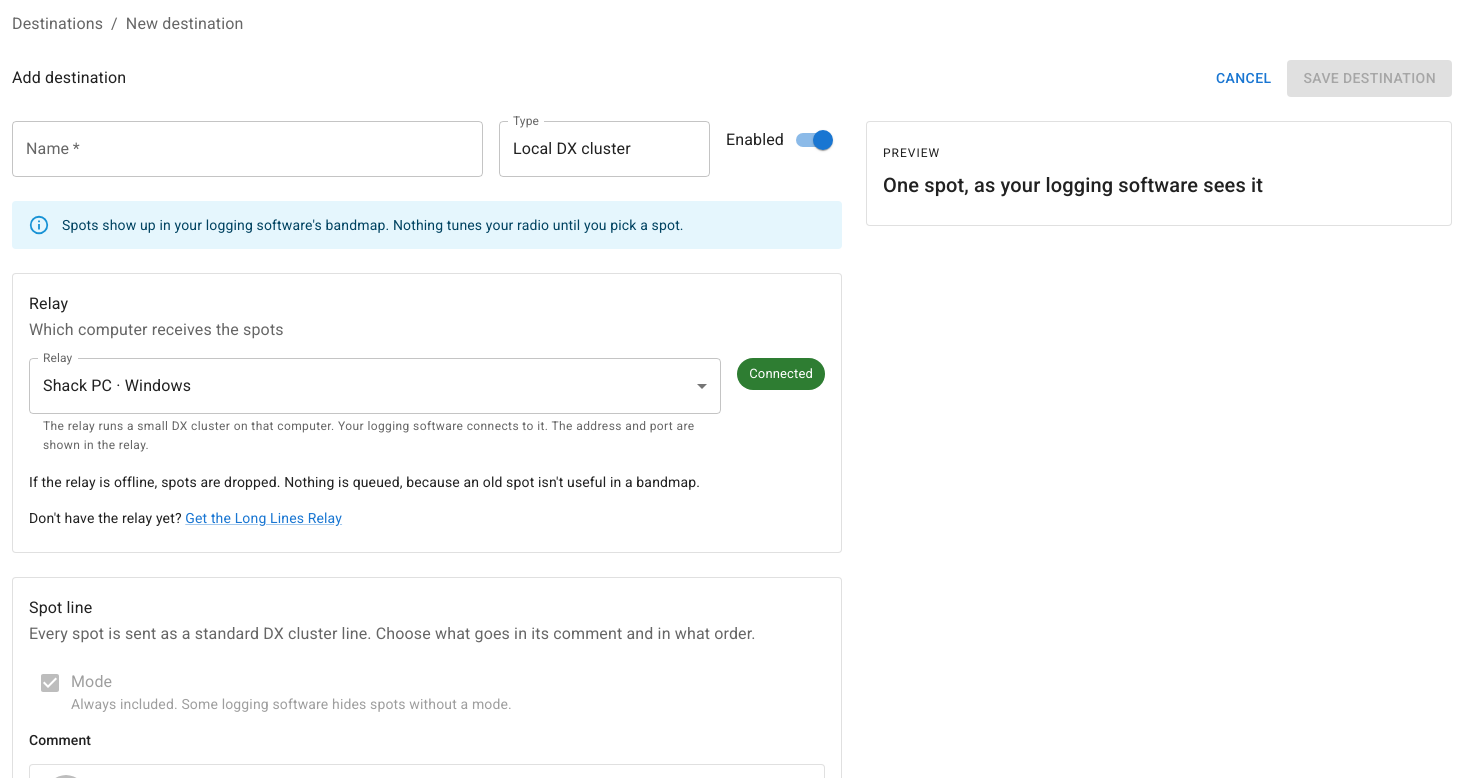
it: new destination › shows a taken name on the field and stays
The image size is (1464, 778).
Expected: the dropdown named "Relay" shows "Shack PC", [43,376,191,395]
Type "Shack" into the field labelled "Name *" at {"x": 247, "y": 148}, box [12,120,483,176]
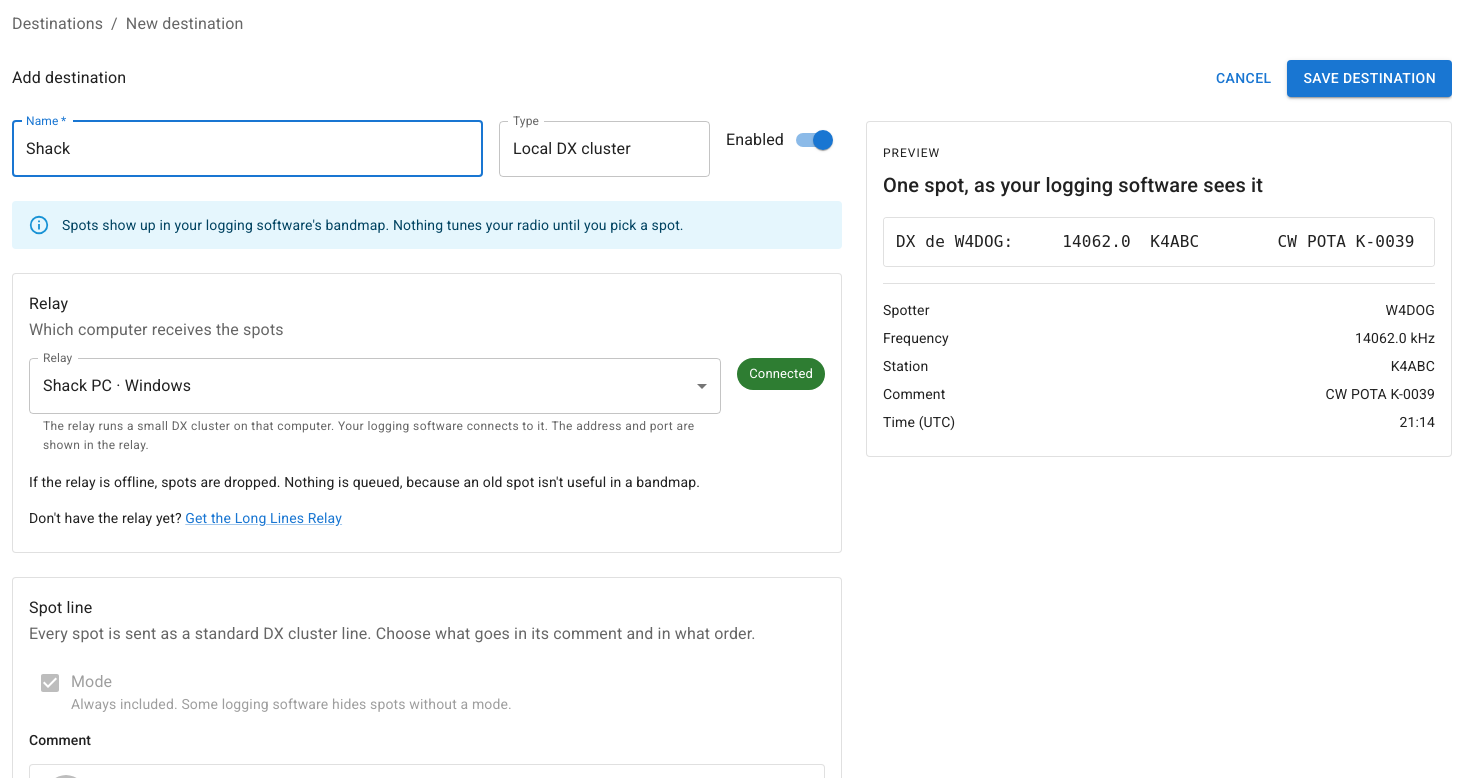
Click the button "Save destination" at {"x": 1370, "y": 78}, box [1287,60,1452,96]
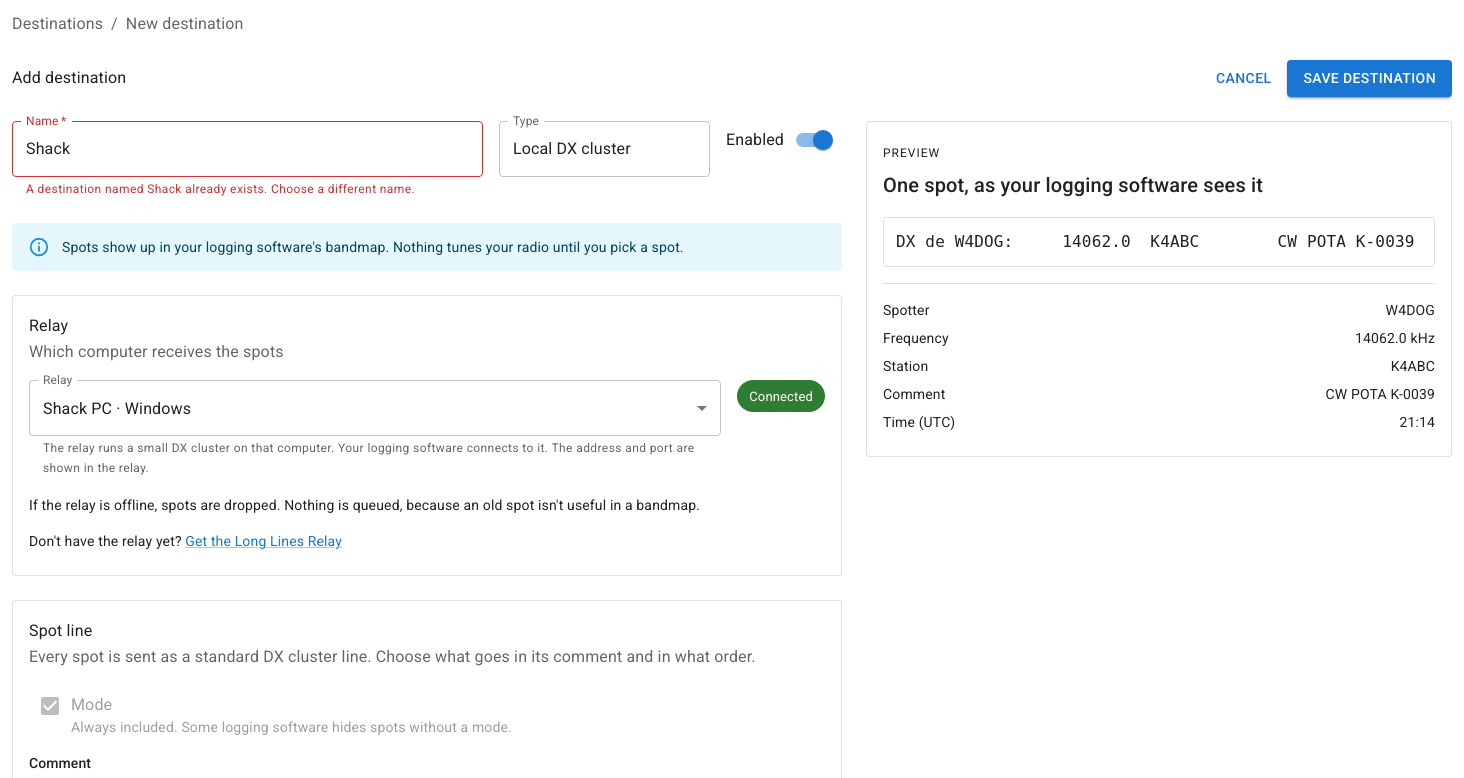
Now the text "A destination named Shack already exists. Choose a different name." is shown, box [26,180,469,199]
Type "2" into the field labelled "Name *" at {"x": 247, "y": 148}, box [12,120,483,176]
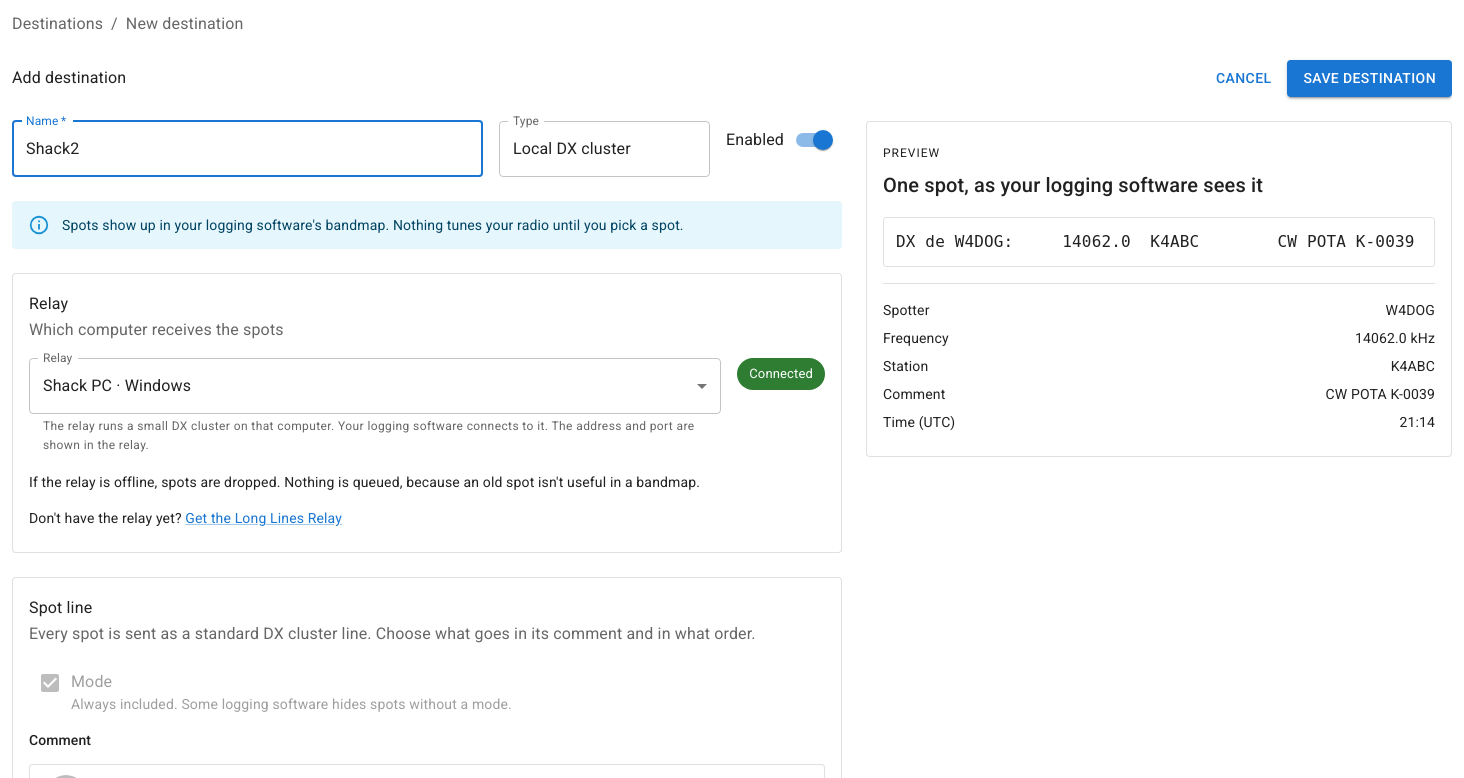
Now the text "already exists" is gone
